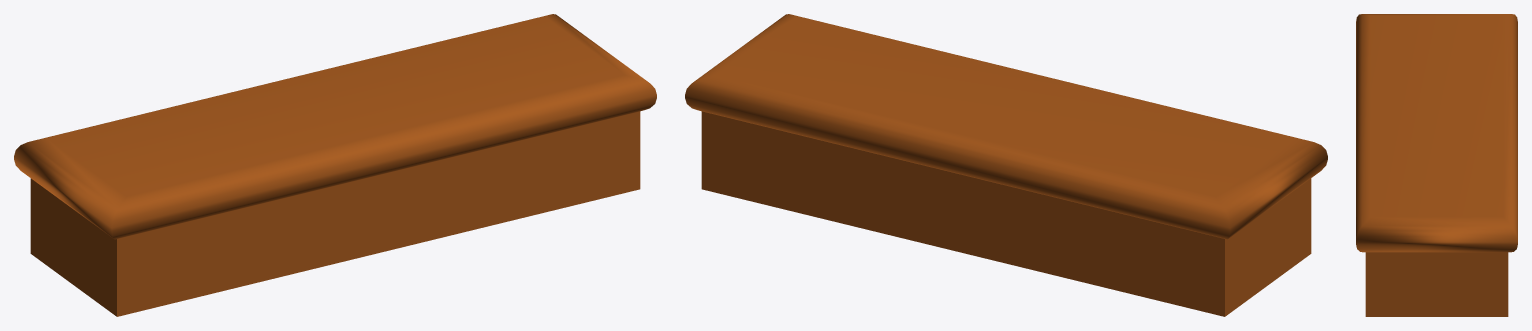
Rendered from GroundGrey.fbx.
3 renders of one model, left to right at view 1: azimuth 30°, elevation 25°; view 2: azimuth 150°, elevation 25°; view 3: azimuth 270°, elevation 25°, orthographic. The views are drawn at different scales.
Parts seen in each view (by area): view 1: polySurface3; view 2: polySurface3; view 3: polySurface3.
Part boxes in pixels (x1=…): polySurface3: x1=14, y1=14, x2=656, y2=316; polySurface3: x1=685, y1=14, x2=1327, y2=316; polySurface3: x1=1356, y1=14, x2=1517, y2=316.
Size of the model in its own units: 14.59 by 2.94 by 4.53.
